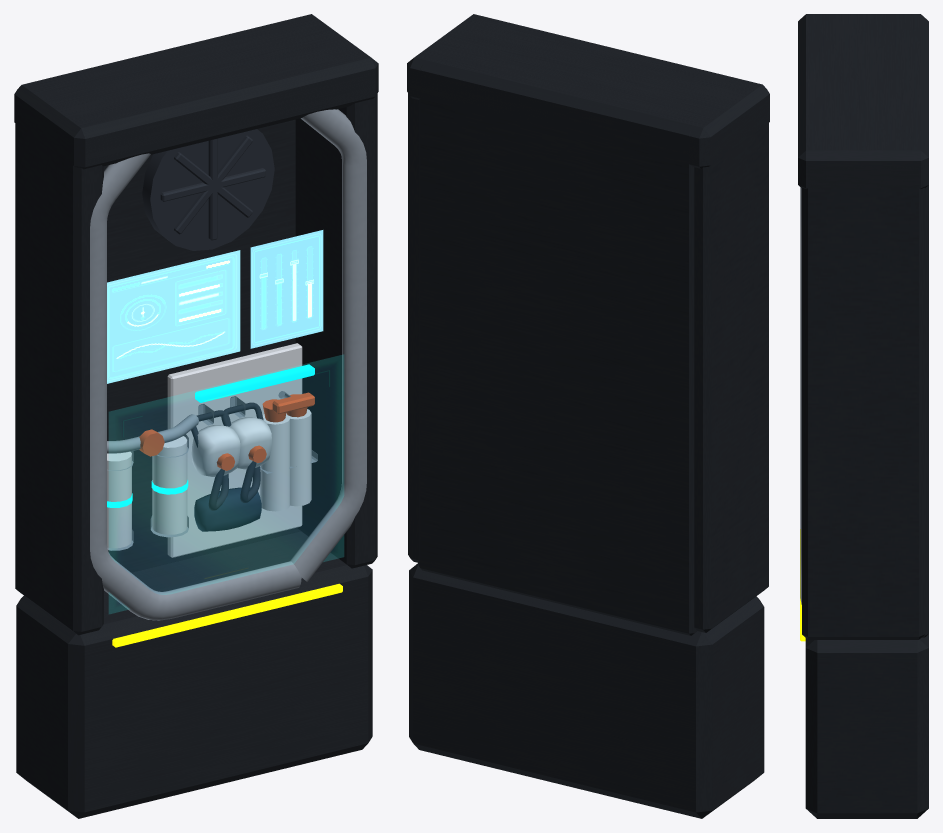
Rendered from climate_r1_03.glb.
3 views of the same model, side by side, from view 1: azimuth 30°, elevation 25°; view 2: azimuth 150°, elevation 25°; view 3: azimuth 270°, elevation 25° (orthographic). The views are drawn at different scales.
Visible parts, largest first — view 1: Climate03_SemiCylindricalGunmetalColumn, Climate03_MachinedRingAndManifold, Climate03_WhiteMasksTanksAndScrubbers, Climate03_TranslucentCylinderChamberDoor, Climate03_CollarOLEDTelemetry, Climate03_VortexTurbineBlades, Climate03_CollarCircadianSliders, Climate03_AmberPlinthLED, Climate03_SignalOrangeValves, Climate03_NavyHoodPouch, Climate03_CyanStatusLED, Climate03_CharcoalStrapsAndHoses; view 2: Climate03_SemiCylindricalGunmetalColumn; view 3: Climate03_SemiCylindricalGunmetalColumn, Climate03_MachinedRingAndManifold.
Part boxes in pixels (x1=…): Climate03_SemiCylindricalGunmetalColumn: x1=14, y1=14, x2=378, y2=818; Climate03_MachinedRingAndManifold: x1=90, y1=109, x2=366, y2=620; Climate03_WhiteMasksTanksAndScrubbers: x1=107, y1=343, x2=311, y2=557; Climate03_TranslucentCylinderChamberDoor: x1=109, y1=355, x2=343, y2=613; Climate03_CollarOLEDTelemetry: x1=107, y1=250, x2=240, y2=383; Climate03_VortexTurbineBlades: x1=142, y1=129, x2=274, y2=250; Climate03_CollarCircadianSliders: x1=250, y1=230, x2=323, y2=348; Climate03_AmberPlinthLED: x1=112, y1=583, x2=342, y2=647; Climate03_SignalOrangeValves: x1=139, y1=392, x2=314, y2=470; Climate03_NavyHoodPouch: x1=194, y1=487, x2=261, y2=531; Climate03_CyanStatusLED: x1=107, y1=364, x2=314, y2=507; Climate03_CharcoalStrapsAndHoses: x1=191, y1=402, x2=263, y2=510; Climate03_SemiCylindricalGunmetalColumn: x1=407, y1=14, x2=769, y2=818; Climate03_SemiCylindricalGunmetalColumn: x1=798, y1=14, x2=928, y2=818; Climate03_MachinedRingAndManifold: x1=800, y1=187, x2=801, y2=604.
Size of the model in its own units: 0.88 by 1.92 by 0.34.
13 materials, 13 textured.
